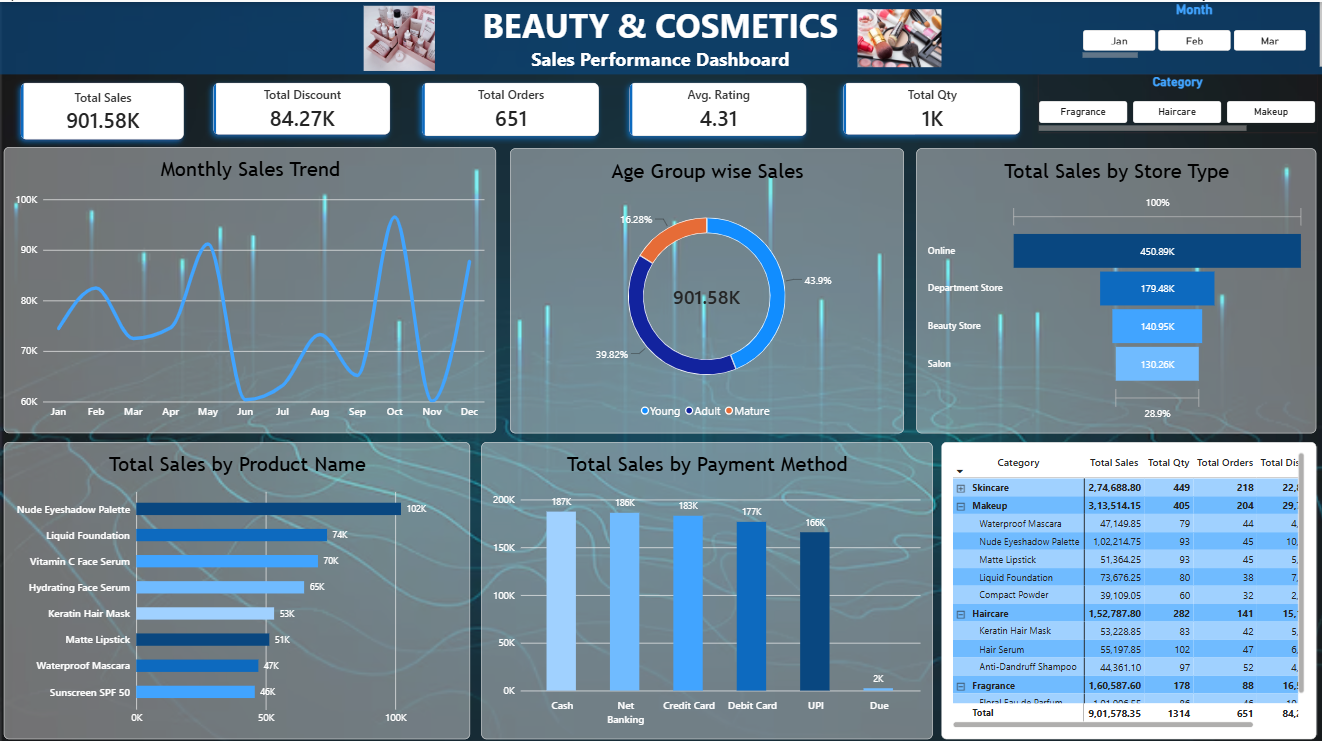

Layout of this report page (visuals, bound fields, positions):
{"tool":"powerbi","page":{"name":"Page 1","canvas":[1920,1080],"ordinal":0},"visuals":[{"type":"cardVisual","fields":{"Data":["DAX.Total Sales"]},"box":[18.1,105,260.6,106.8],"z":0},{"type":"cardVisual","fields":{"Data":["DAX.Total Discount"]},"box":[296.8,105,280.5,99.5],"z":1000},{"type":"cardVisual","fields":{"Data":["DAX.Avg. Rating"]},"box":[899.4,105,280.5,101.3],"z":2000},{"type":"cardVisual","fields":{"Data":["DAX.Total Qty"]},"box":[1208.9,105,280.5,99.5],"z":3000},{"type":"cardVisual","fields":{"Data":["DAX.Total Orders"]},"box":[599,105,280.5,101.3],"z":4000},{"type":"lineChart","title":"Monthly Sales Trend","fields":{"Category":["Calendar.Month Name"],"Y":["DAX.Total Sales"]},"box":[5.4,209.9,713,414.4],"z":5000},{"type":"clusteredBarChart","fields":{"Category":["Beauty Sales.Product Name"],"Y":["DAX.Total Sales"]},"box":[5.4,637,675,430.7],"z":6000},{"type":"donutChart","title":"Age Group wise Sales","fields":{"Category":["Beauty Sales.Age Group"],"Y":["DAX.Total Sales"]},"box":[738.3,211.7,570,412.6],"z":7000},{"type":"pivotTable","fields":{"Rows":["Beauty Sales.Category","Beauty Sales.Product Name"],"Values":["DAX.Total Sales","DAX.Total Qty","DAX.Total Orders","DAX.Total Discount"]},"box":[1362.7,637,542.9,430.7],"z":8000},{"type":"clusteredColumnChart","fields":{"Category":["Beauty Sales.Payment Method"],"Y":["DAX.Total Sales"]},"box":[696.7,637,653.3,430.7],"z":9000},{"type":"funnel","fields":{"Category":["Beauty Sales.Store Type"],"Y":["DAX.Total Sales"]},"box":[1326.5,211.7,579.1,412.6],"z":10000},{"type":"textbox","box":[0,0,1920.1,105],"z":11000},{"type":"advancedSlicerVisual","fields":{"Values":["Beauty Sales.Category"]},"box":[1504.5,105.2,402.4,83.5],"z":12000},{"type":"advancedSlicerVisual","title":"Month ","fields":{"Values":["Calendar.Month Name"]},"box":[1567.2,0,323.9,83.2],"z":13000},{"type":"image","box":[497.7,5.4,161.1,94.1],"z":14000},{"type":"image","box":[1241.4,0,121.2,105],"z":15000}]}

Visuals, with their boxes in screenshot pixels (x1, y1, x2, y2), scaled from the page's 1920x1080 canvas onto the 1322x741 screenshot:
cardVisual - DAX.Total Sales: bbox=(12, 72, 192, 145)
cardVisual - DAX.Total Discount: bbox=(204, 72, 397, 140)
cardVisual - DAX.Avg. Rating: bbox=(619, 72, 812, 142)
cardVisual - DAX.Total Qty: bbox=(832, 72, 1026, 140)
cardVisual - DAX.Total Orders: bbox=(412, 72, 606, 142)
"Monthly Sales Trend" lineChart: bbox=(4, 144, 495, 428)
clusteredBarChart - Beauty Sales.Product Name x DAX.Total Sales: bbox=(4, 437, 468, 733)
"Age Group wise Sales" donutChart: bbox=(508, 145, 901, 428)
pivotTable - Beauty Sales.Category x Beauty Sales.Product Name: bbox=(938, 437, 1312, 733)
clusteredColumnChart - Beauty Sales.Payment Method x DAX.Total Sales: bbox=(480, 437, 930, 733)
funnel - Beauty Sales.Store Type x DAX.Total Sales: bbox=(913, 145, 1312, 428)
textbox: bbox=(0, 0, 1321, 72)
advancedSlicerVisual - Beauty Sales.Category: bbox=(1036, 72, 1313, 129)
"Month " advancedSlicerVisual: bbox=(1079, 0, 1302, 57)
image: bbox=(343, 4, 454, 68)
image: bbox=(855, 0, 938, 72)
